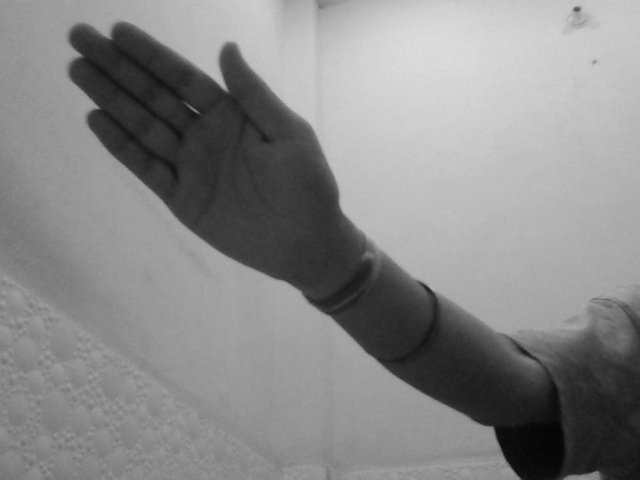Hello: (64, 18, 345, 292)
